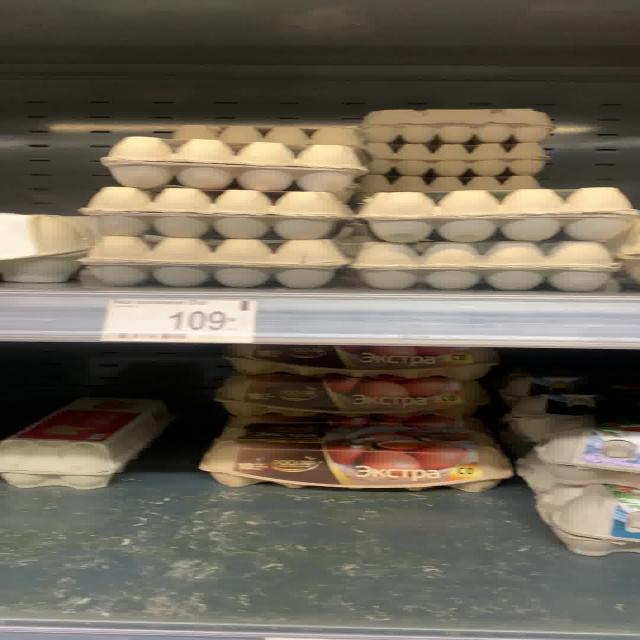egg box: (201, 427, 511, 490), (0, 396, 180, 492), (220, 373, 480, 422)
